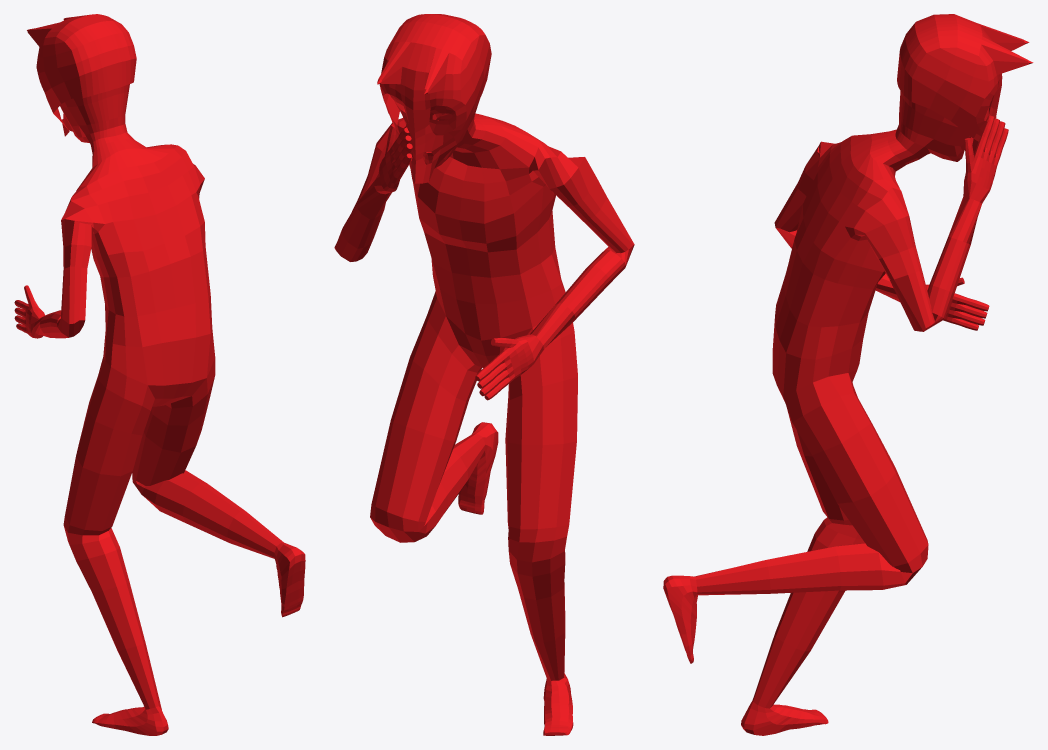
Rendered from correrE_000088.obj.
The picture shows the model from 3 angles, left to right: view 1: azimuth 30°, elevation 25°; view 2: azimuth 150°, elevation 25°; view 3: azimuth 270°, elevation 25°; orthographic projection. The views are drawn at different scales.
Visible parts, largest first — view 1: Plane.002_Plane.001; view 2: Plane.002_Plane.001; view 3: Plane.002_Plane.001.
Part boxes in pixels (bbox=[...]): Plane.002_Plane.001: bbox=[14, 14, 305, 735]; Plane.002_Plane.001: bbox=[334, 14, 634, 735]; Plane.002_Plane.001: bbox=[663, 14, 1033, 735].
Bounding box in the file's own units: 2.05 × 6.51 × 3.02.
